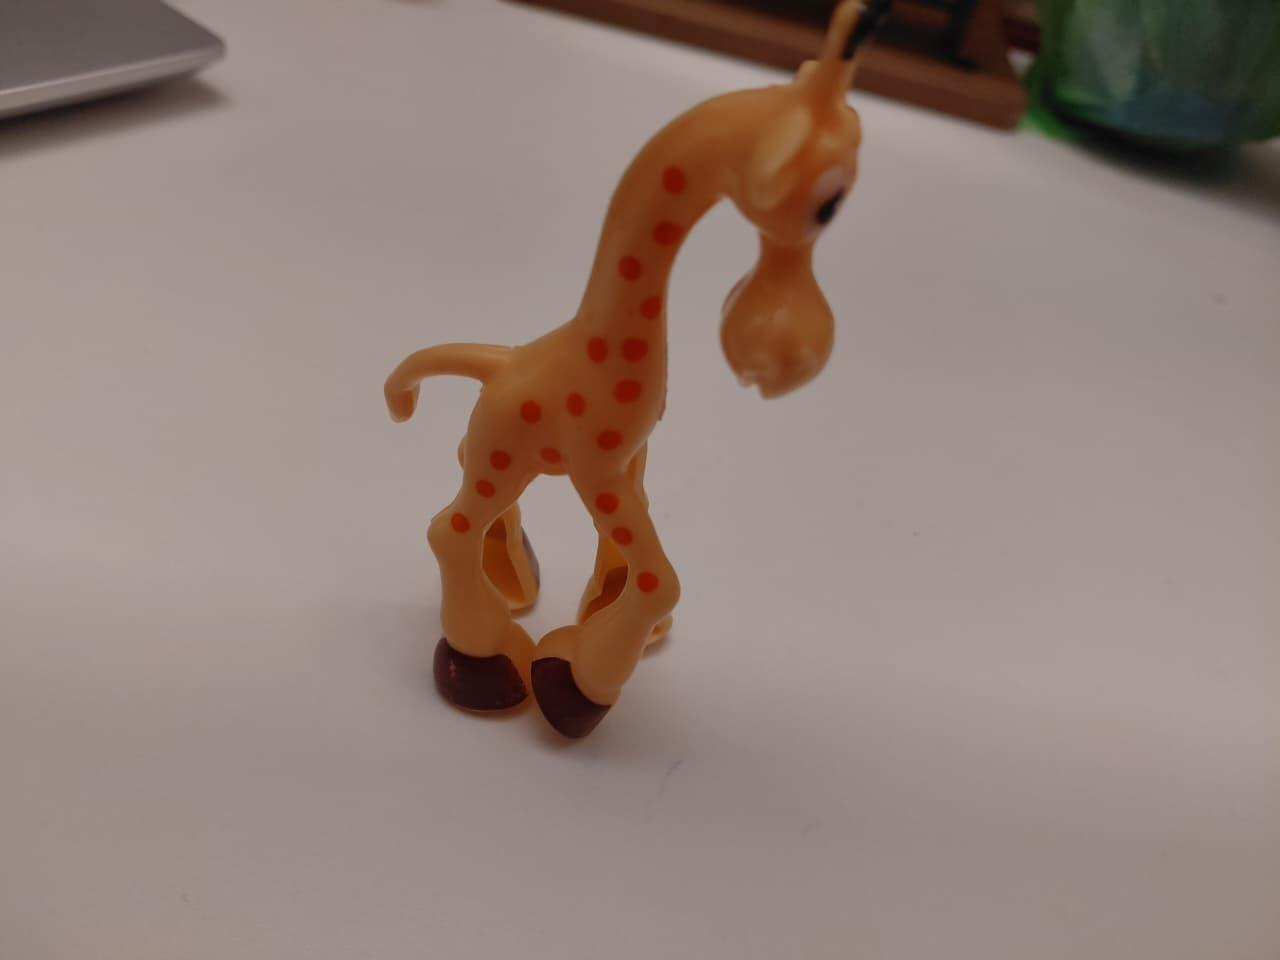giraffe: (360, 10, 910, 744)
